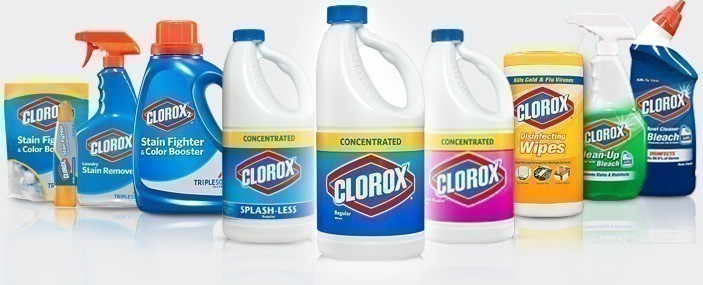Wipes: (502, 44, 594, 222)
